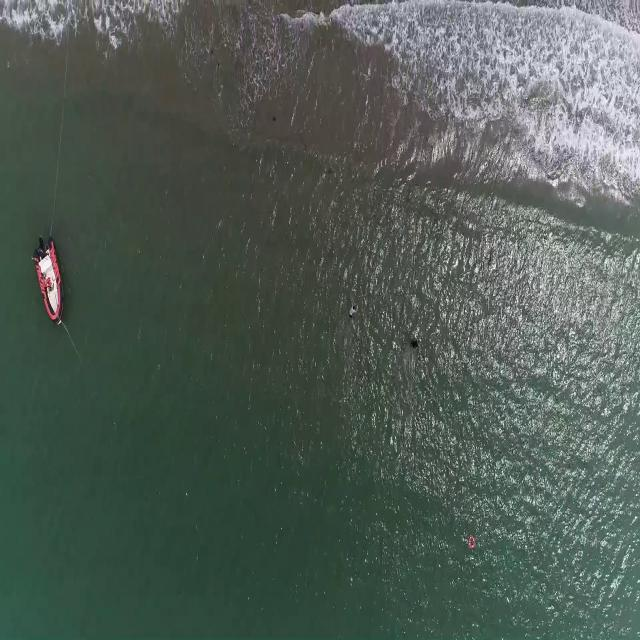boat: (33, 235, 63, 324)
life_buoy: (468, 534, 477, 548)
person: (349, 298, 362, 320), (410, 333, 419, 353)
